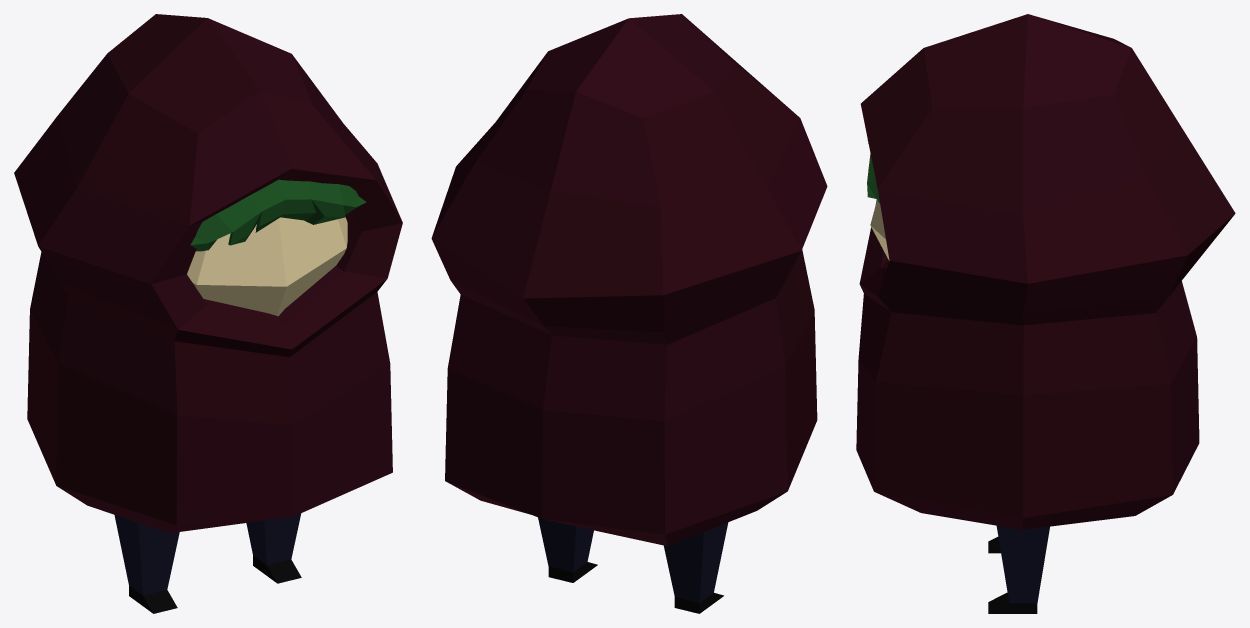
Rendered from huumemyyja.glb.
3 views of the same model, side by side, from view 1: azimuth 30°, elevation 25°; view 2: azimuth 150°, elevation 25°; view 3: azimuth 270°, elevation 25° (orthographic).
Parts seen in each view (by area): view 1: Cube; view 2: Cube; view 3: Cube.
Part boxes in pixels (bbox=[...]): Cube: bbox=[14, 14, 402, 613]; Cube: bbox=[431, 14, 827, 613]; Cube: bbox=[856, 14, 1235, 613].
Bounding box in the file's own units: 1.26 × 2 × 1.22.
